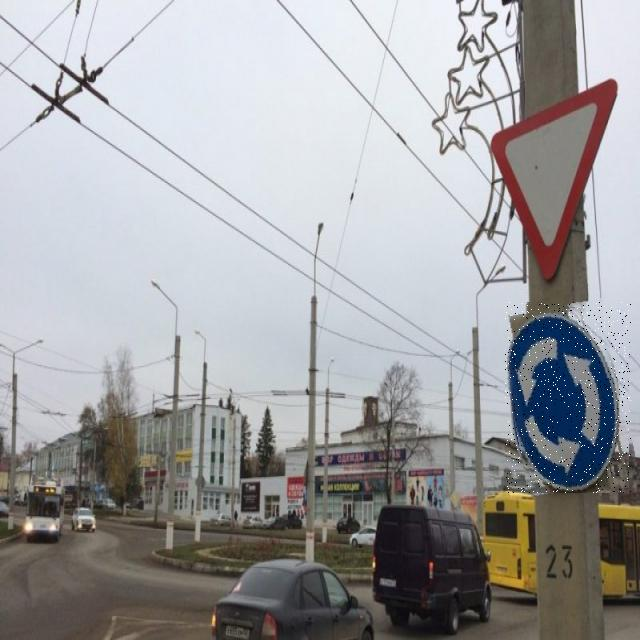roundabout: (506, 302, 632, 493)
